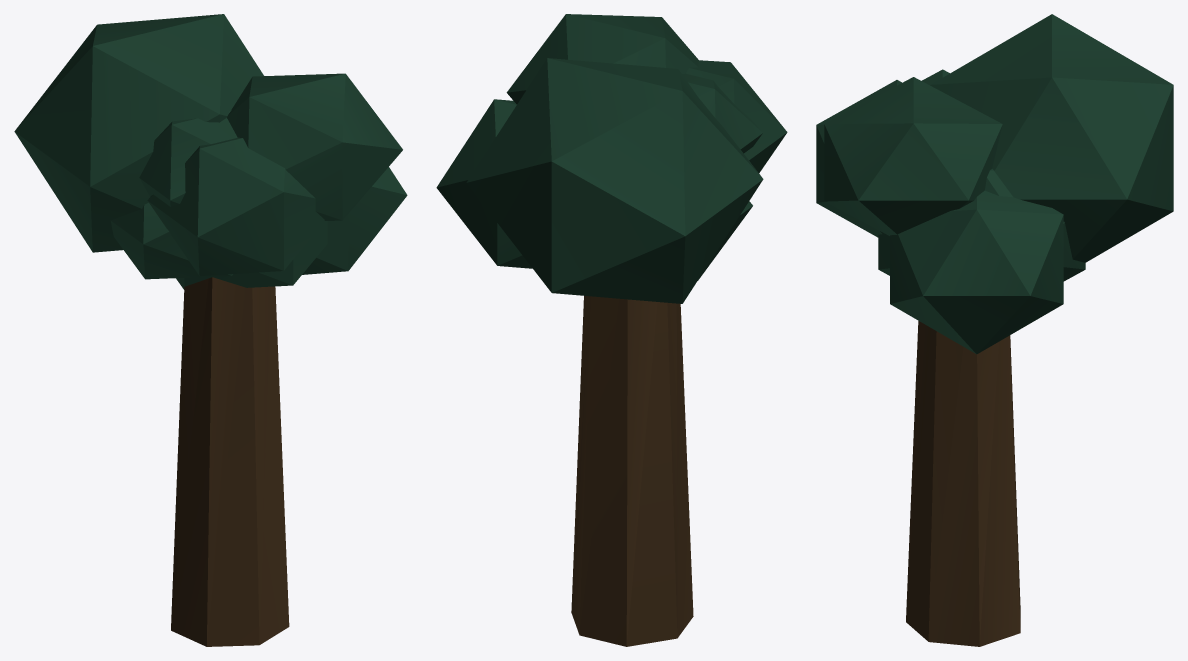
Rendered from canopee.glb.
The picture shows the model from 3 angles, left to right: view 1: azimuth 30°, elevation 25°; view 2: azimuth 150°, elevation 25°; view 3: azimuth 270°, elevation 25°; orthographic projection. The views are drawn at different scales.
Parts seen in each view (by area): view 1: canopee; view 2: canopee; view 3: canopee.
Boxes of the visible parts, box(x1,y1,x2,y2) form: canopee: box(14, 14, 407, 646); canopee: box(436, 14, 787, 646); canopee: box(816, 14, 1173, 646).
Size of the model in its own units: 1.21 by 2.26 by 1.3.
